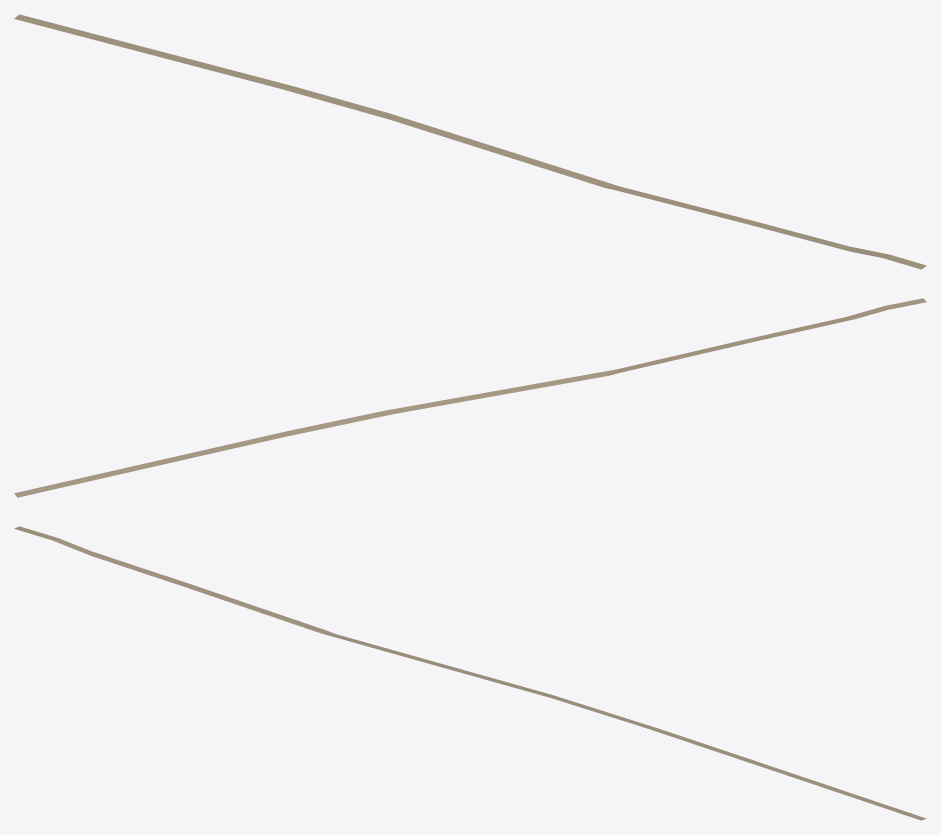
The model's file is farm_-17_-26_track.glb.
3 views of the same model, one above another, from view 1: azimuth 90°, elevation 25°; view 2: azimuth 150°, elevation 25°; view 3: azimuth 270°, elevation 25° (orthographic). The views are drawn at different scales.
Visible parts, largest first — view 1: geometry_0; view 2: geometry_0; view 3: geometry_0.
Boxes of the visible parts, x1,y1,x2,y2 form: geometry_0: (14,14,926,269); geometry_0: (14,298,926,497); geometry_0: (14,526,926,820).
Size of the model in its own units: 226 by 8.28 by 317.
